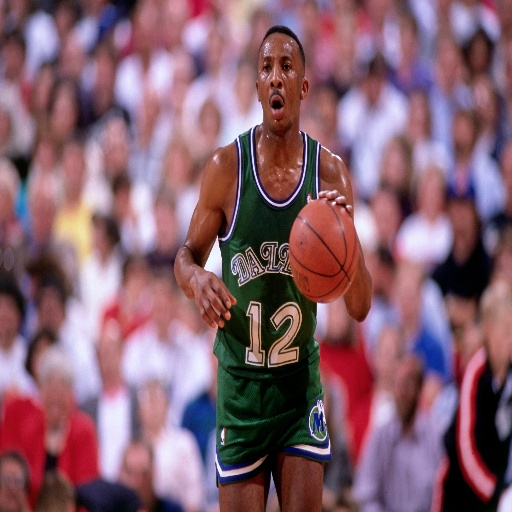hand: (195, 260, 233, 334), (318, 188, 353, 219)
